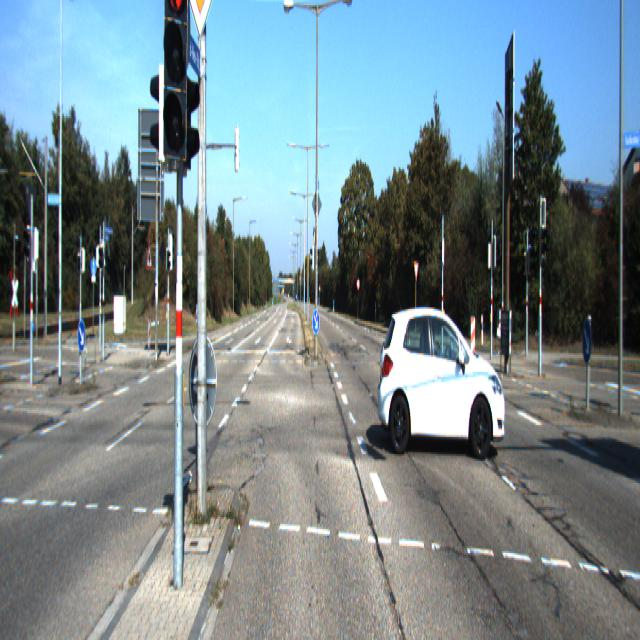Car: (377, 298, 508, 461)
